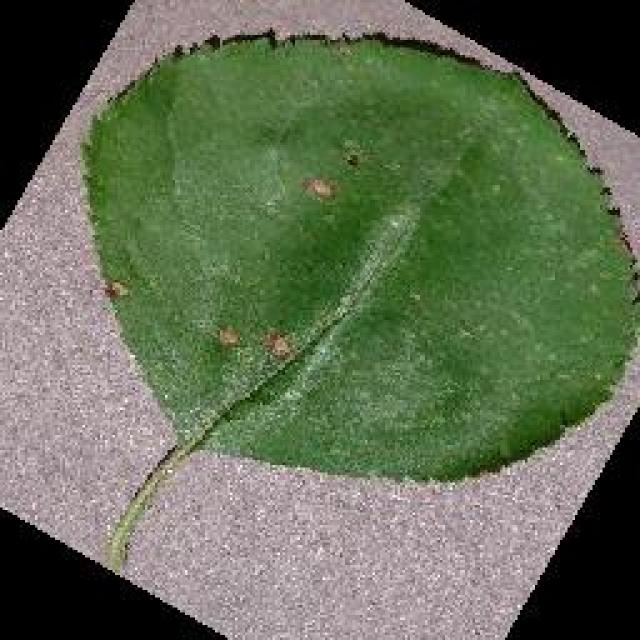Black_rot: (75, 25, 637, 575)
